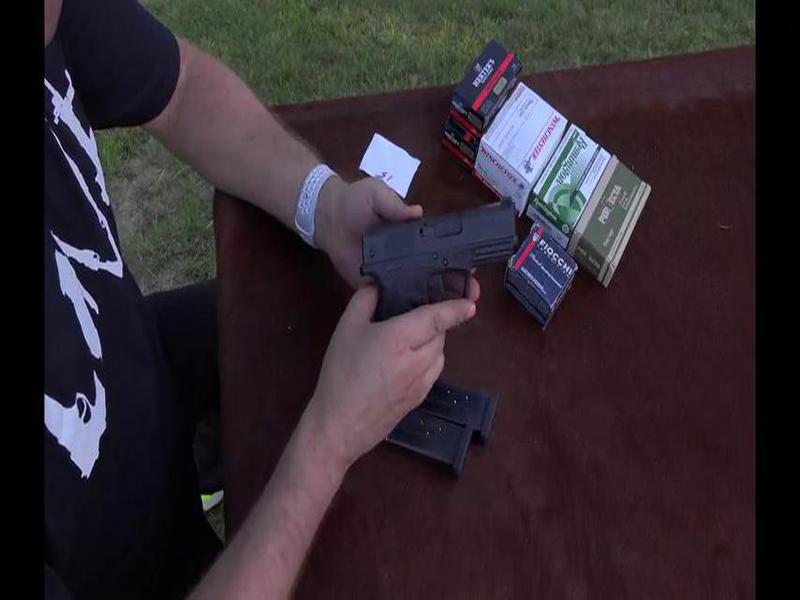Pistola: (346, 207, 529, 303)
